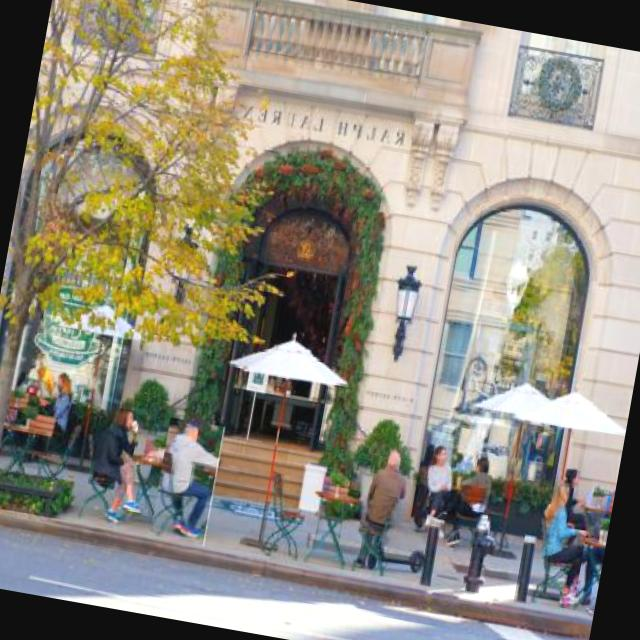Person: (148, 417, 225, 548)
